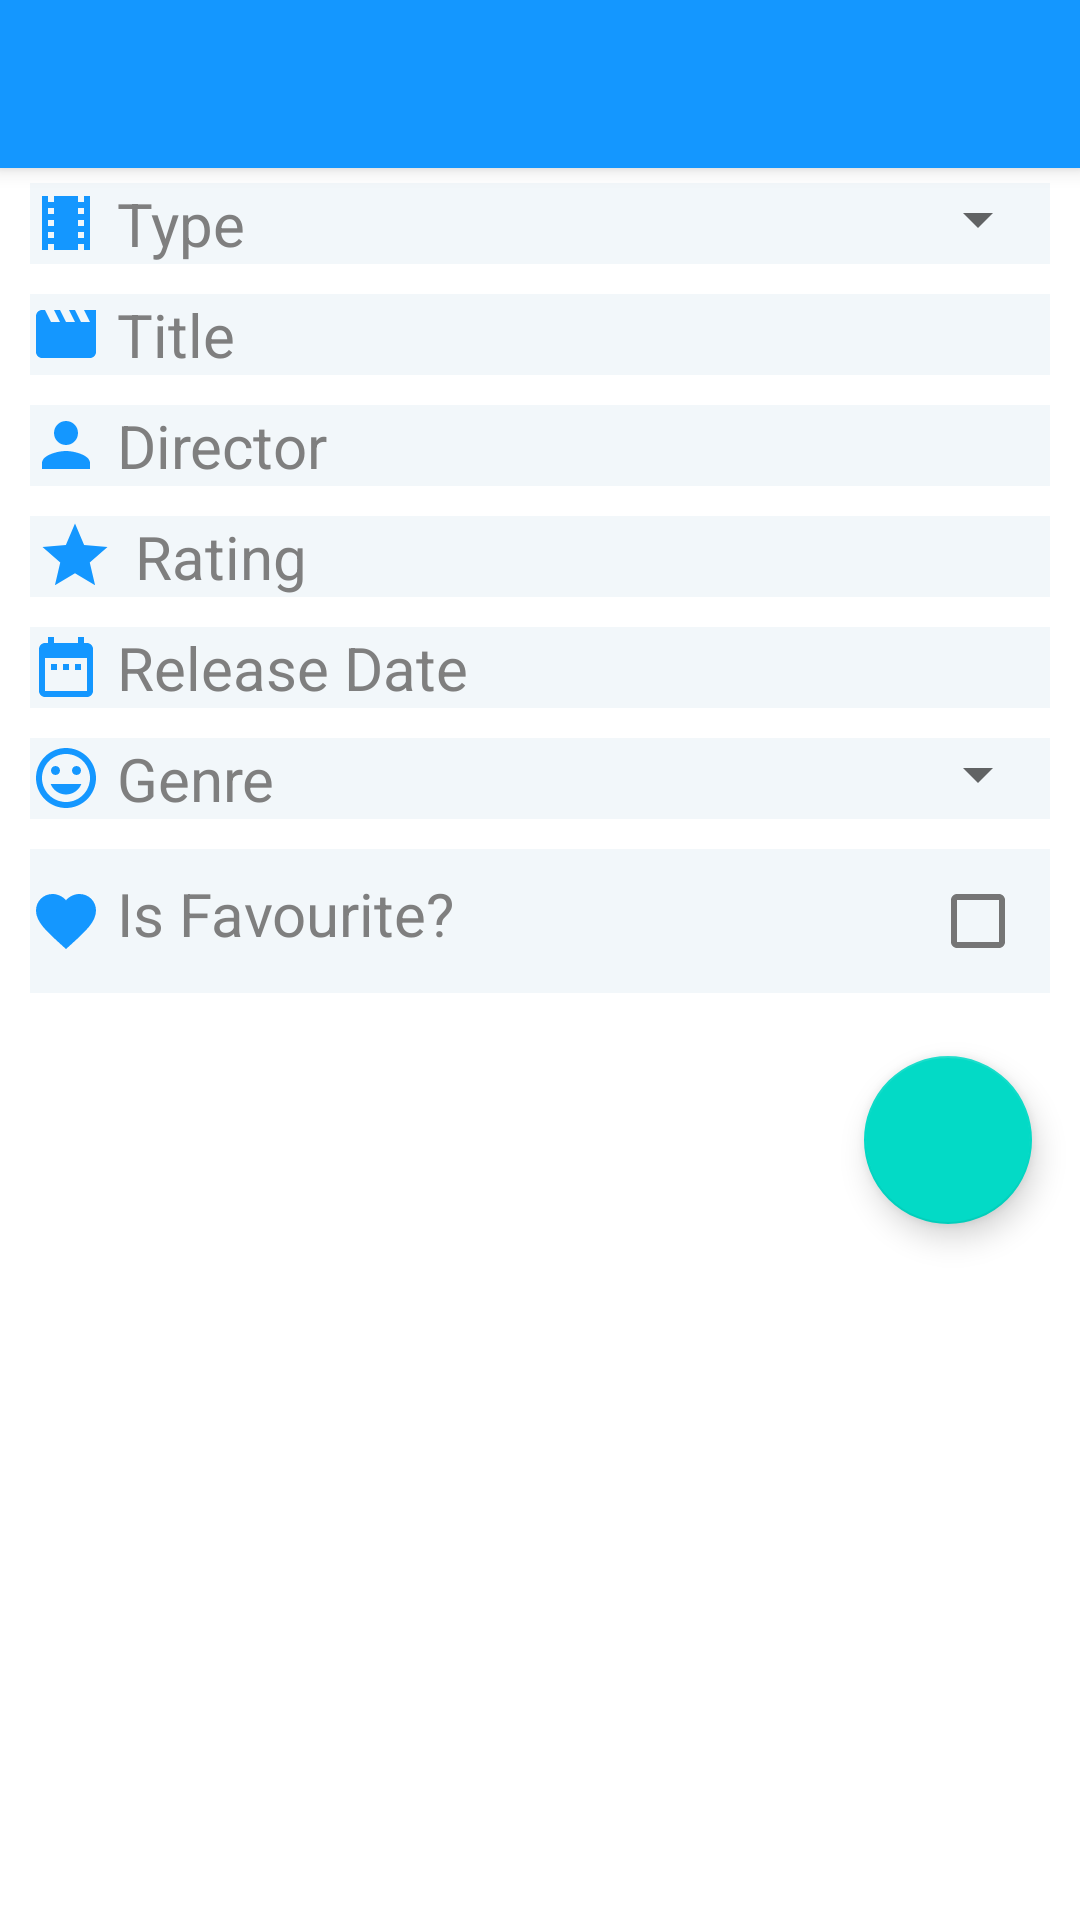

Where to tap for icons on this 1080×1920 app screen, as [x,y]:
date range: [66,667]
full favorite: [66,921]
movie: [66,334]
person: [66,445]
star: [75,554]
tag faces: [66,778]
